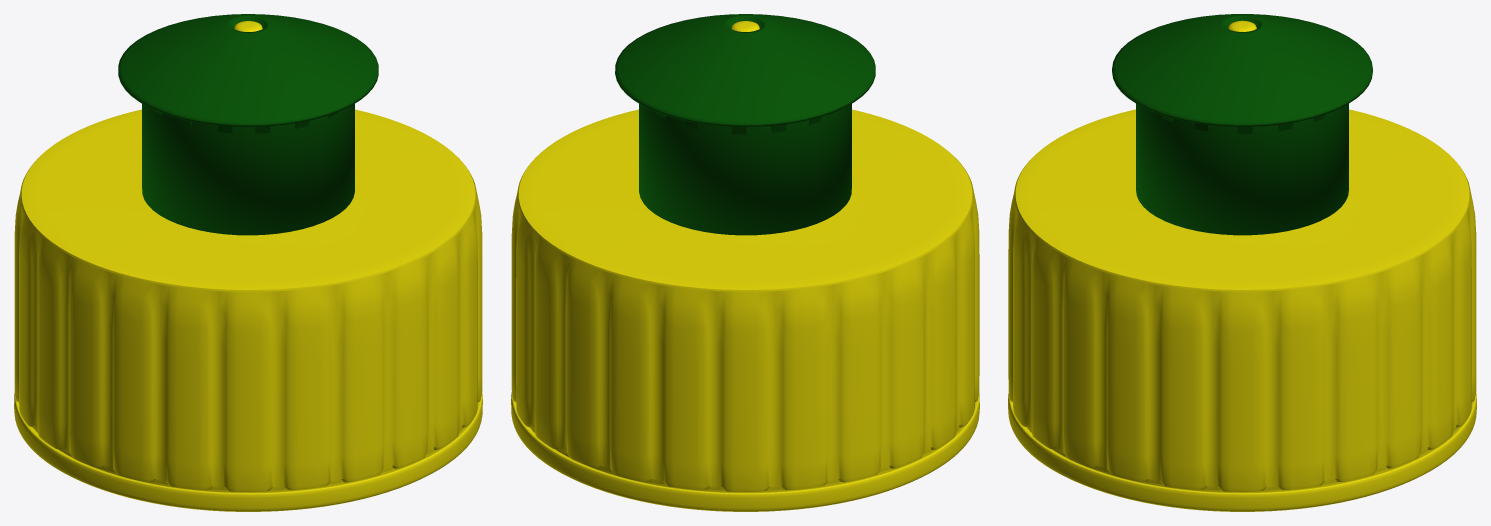
Rendered from Cap8.glb.
The picture shows the model from 3 angles, left to right: view 1: azimuth 30°, elevation 25°; view 2: azimuth 150°, elevation 25°; view 3: azimuth 270°, elevation 25°; orthographic projection.
Visible parts, largest first — view 1: Circle.011, Circle.010, Circle.001; view 2: Circle.011, Circle.010, Circle.001; view 3: Circle.011, Circle.010, Circle.001.
Part boxes in pixels (<box>): Circle.011: <box>14,157,482,491</box>; Circle.010: <box>14,109,482,511</box>; Circle.001: <box>118,14,378,235</box>; Circle.011: <box>511,157,979,491</box>; Circle.010: <box>511,109,979,511</box>; Circle.001: <box>615,14,875,235</box>; Circle.011: <box>1008,160,1476,491</box>; Circle.010: <box>1008,109,1476,511</box>; Circle.001: <box>1112,14,1372,235</box>.
Bounding box in the file's own units: 0.0325 × 0.0299 × 0.0325.
